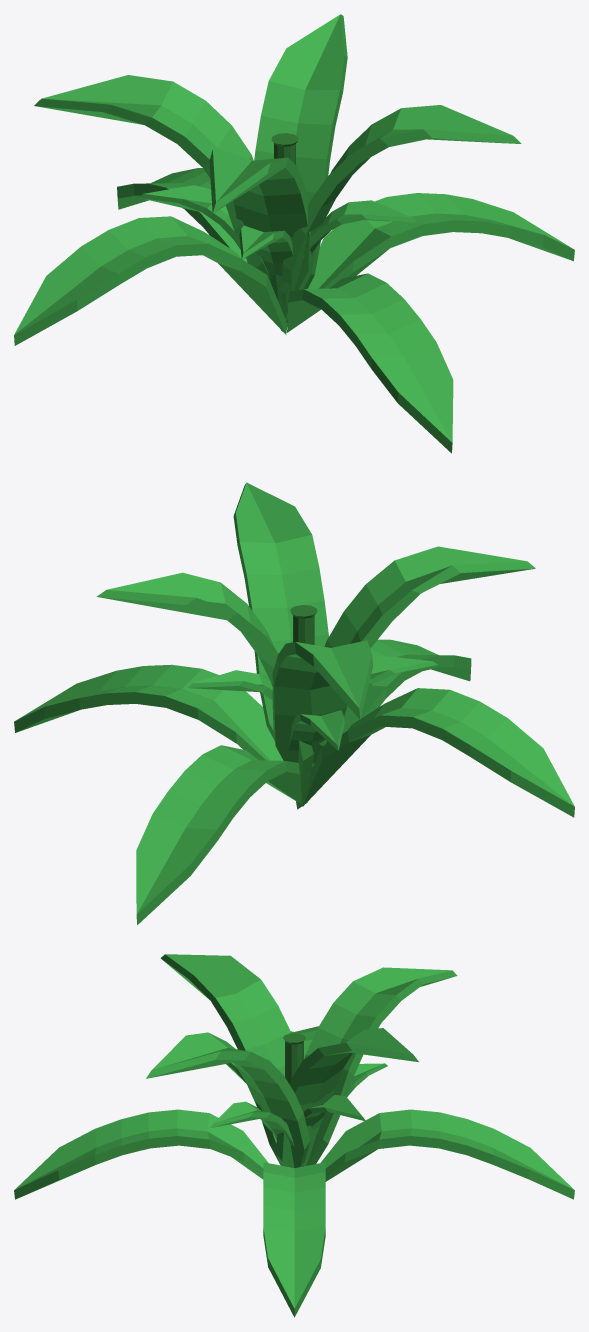
Rendered from PINEAPPLE.fbx.
3 renders of one model, top to bottom at view 1: azimuth 30°, elevation 25°; view 2: azimuth 150°, elevation 25°; view 3: azimuth 270°, elevation 25°, orthographic. The views are drawn at different scales.
Parts seen in each view (by area): view 1: Cylinder.010; view 2: Cylinder.010; view 3: Cylinder.010.
Boxes of the visible parts, x1,y1,x2,y2 form: Cylinder.010: (14, 14, 574, 453); Cylinder.010: (14, 482, 574, 924); Cylinder.010: (14, 954, 574, 1317).
Bounding box in the file's own units: 2214 × 910 × 2288.
